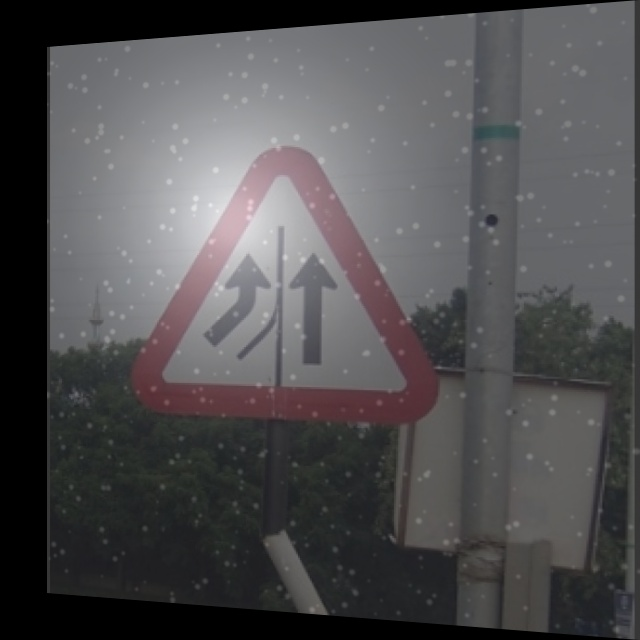Merge_Traffic_Ahead: (127, 133, 448, 441)
